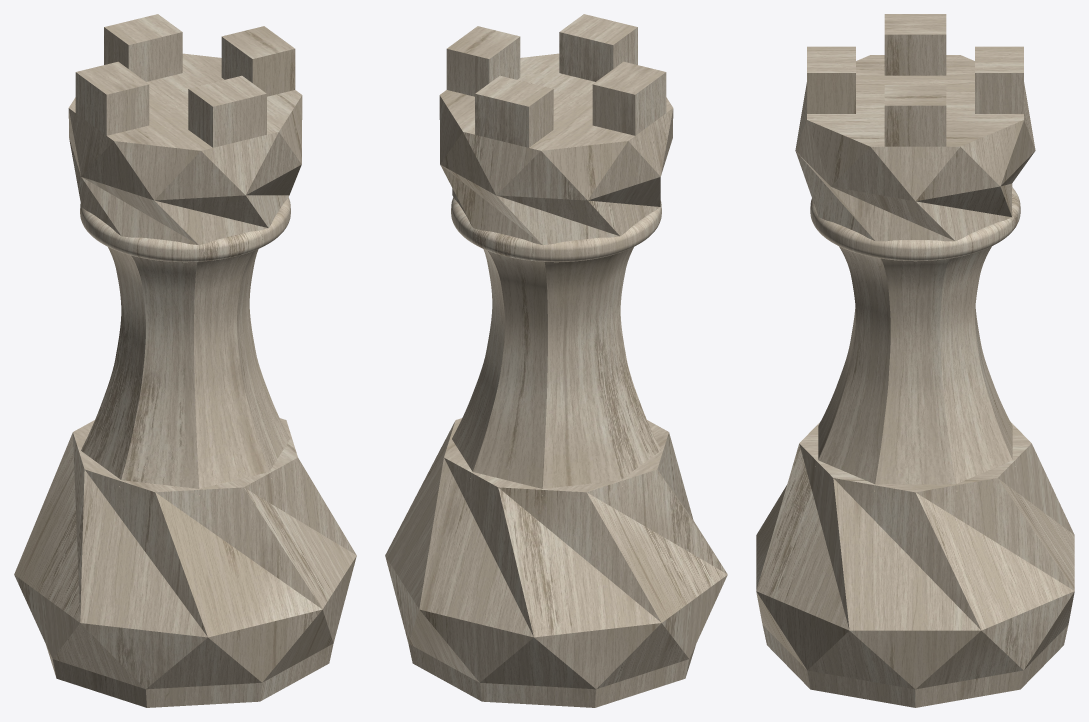
The model's file is rook-white.glb.
3 views of the same model, side by side, from view 1: azimuth 30°, elevation 25°; view 2: azimuth 150°, elevation 25°; view 3: azimuth 270°, elevation 25° (orthographic).
Visible parts, largest first — view 1: Lithoxyl_Rook_Ivory; view 2: Lithoxyl_Rook_Ivory; view 3: Lithoxyl_Rook_Ivory.
Boxes of the visible parts, x1,y1,x2,y2 form: Lithoxyl_Rook_Ivory: (14,14,356,707); Lithoxyl_Rook_Ivory: (385,14,727,707); Lithoxyl_Rook_Ivory: (756,14,1074,707).
Size of the model in its own units: 0.4983 by 1.01 by 0.4983.
Materials: 1 (1 with a texture image).
